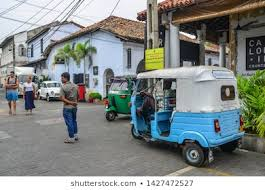tuk tuk: (130, 64, 245, 167), (104, 72, 130, 123)
